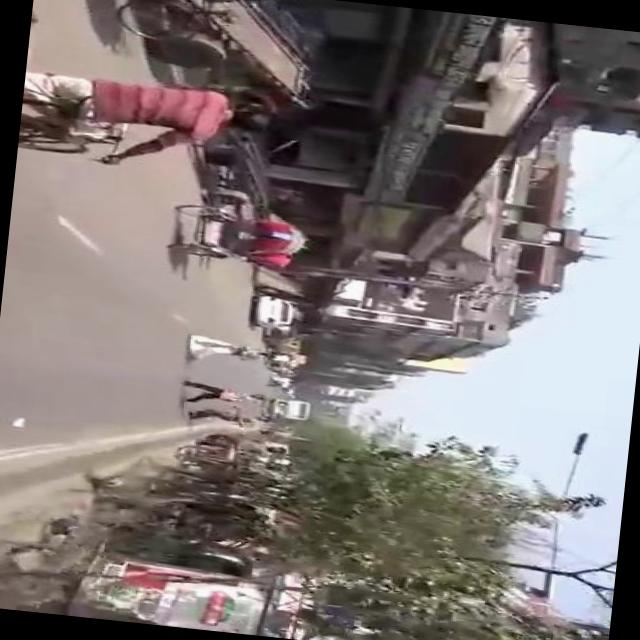bus: (270, 396, 316, 418)
car: (246, 290, 302, 328)
motorcycle: (166, 199, 319, 270)
